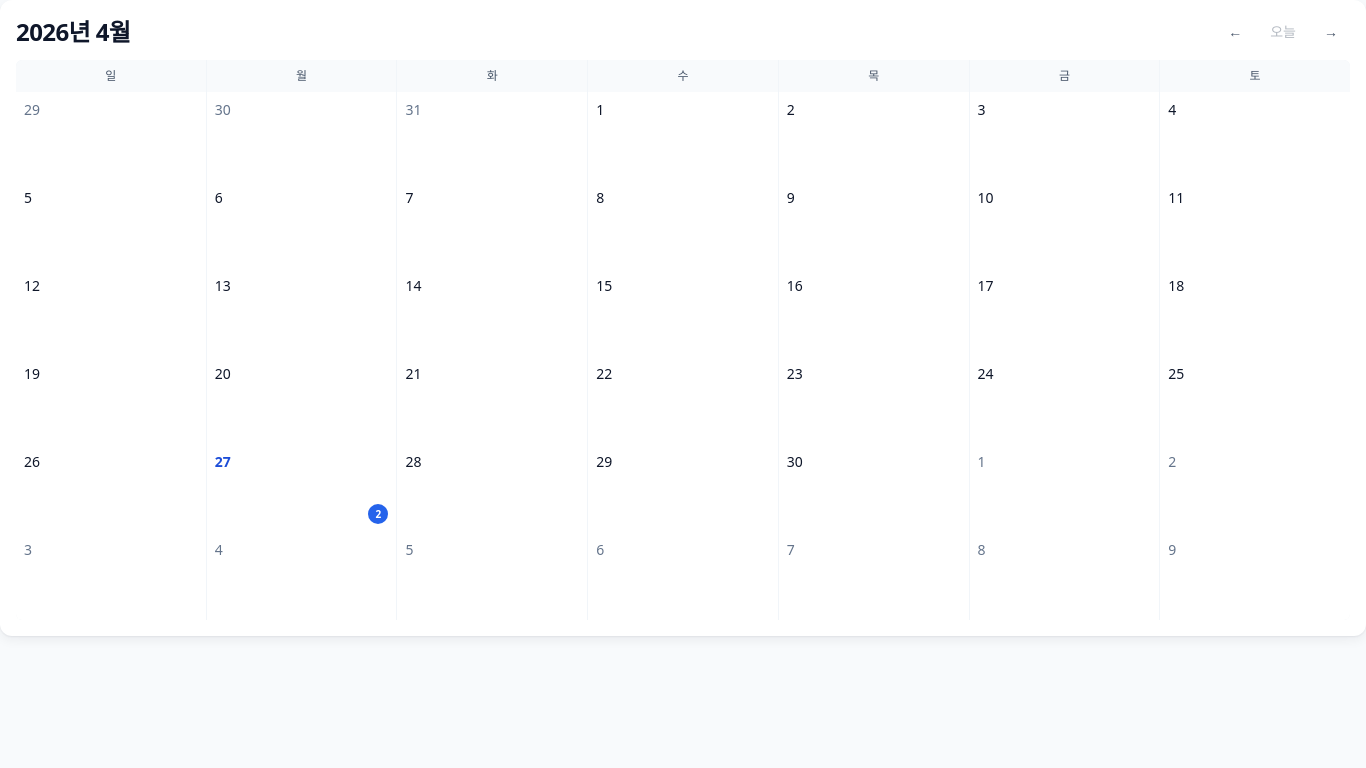
Test: Toggle todo flow (#12) › 체크박스 클릭 → done 전환 + 취소선 + 배지 -1 (#12 AC-1, AC-2, AC-3)
expect the text with test id "todo-count" reads "2": met, box [376,507,381,521]
Click the cell labelled "27 2": (302, 488) [207,444,396,532]
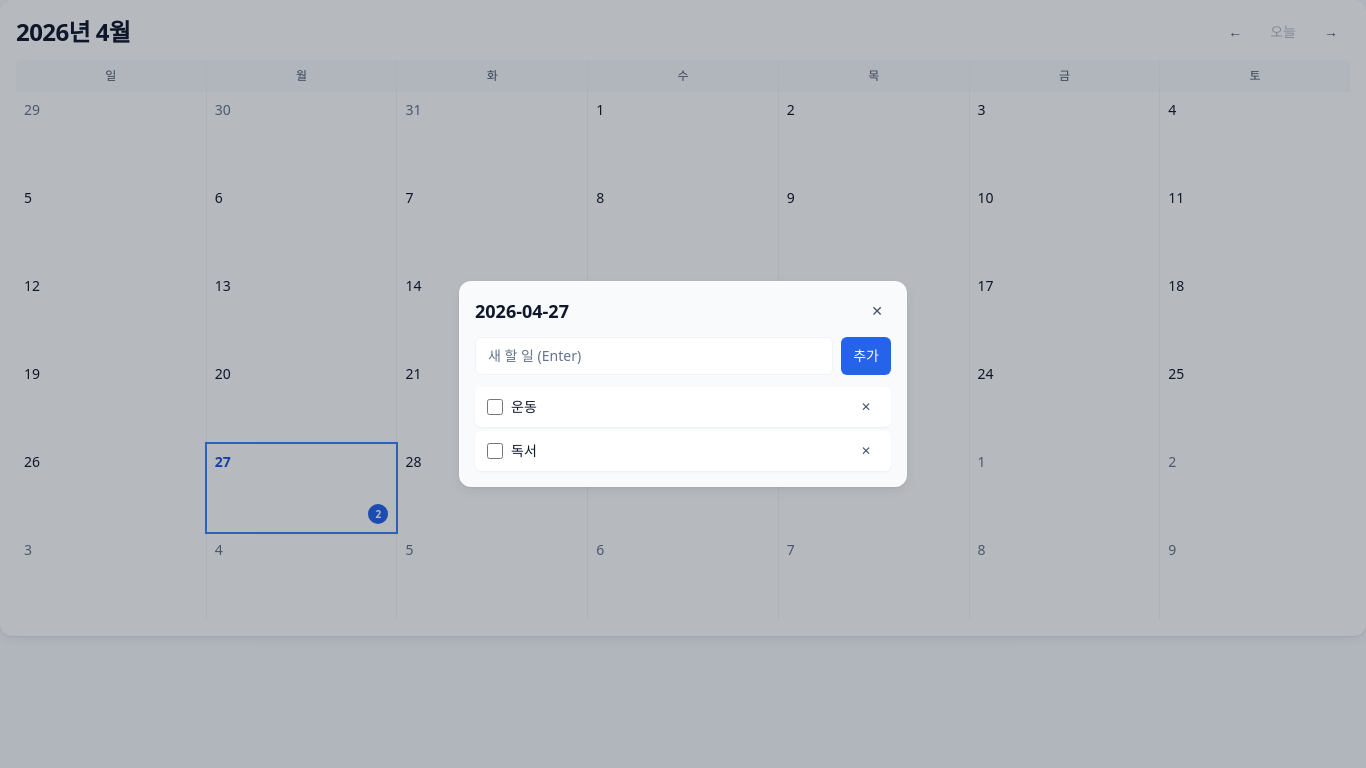
Click the 1st checkbox with test id "todo-toggle": (495, 407) [487,399,503,415]
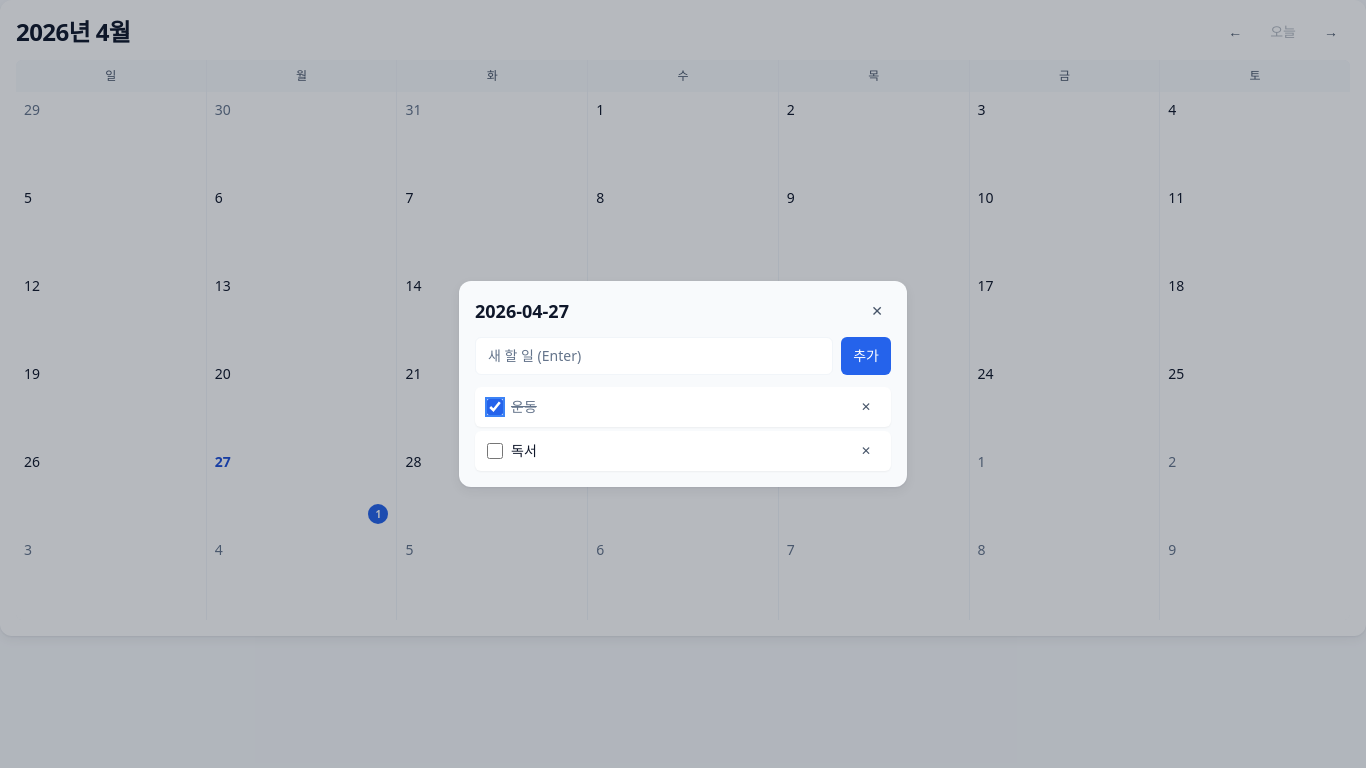
expect the cell labelled "27 1" is shown: met, box [207,444,396,532]
